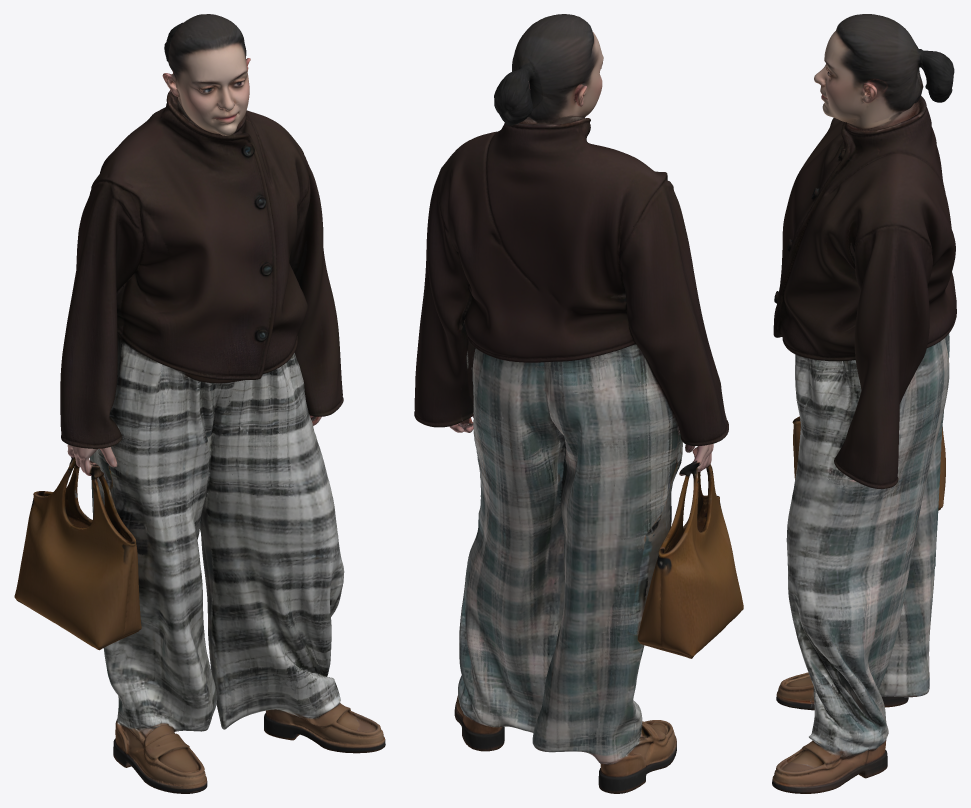
File: morenoredondo.glb
3 renders of one model, left to right at view 1: azimuth 30°, elevation 25°; view 2: azimuth 150°, elevation 25°; view 3: azimuth 270°, elevation 25°, orthographic. The views are drawn at different scales.
Parts seen in each view (by area): view 1: Mesh_0; view 2: Mesh_0; view 3: Mesh_0.
Boxes of the visible parts, x1=… form: Mesh_0: x1=14, y1=14, x2=385, y2=793; Mesh_0: x1=414, y1=14, x2=743, y2=793; Mesh_0: x1=772, y1=14, x2=956, y2=793.
Size of the model in its own units: 0.7327 by 1.7 by 0.3986.
1 material, 1 textured.
